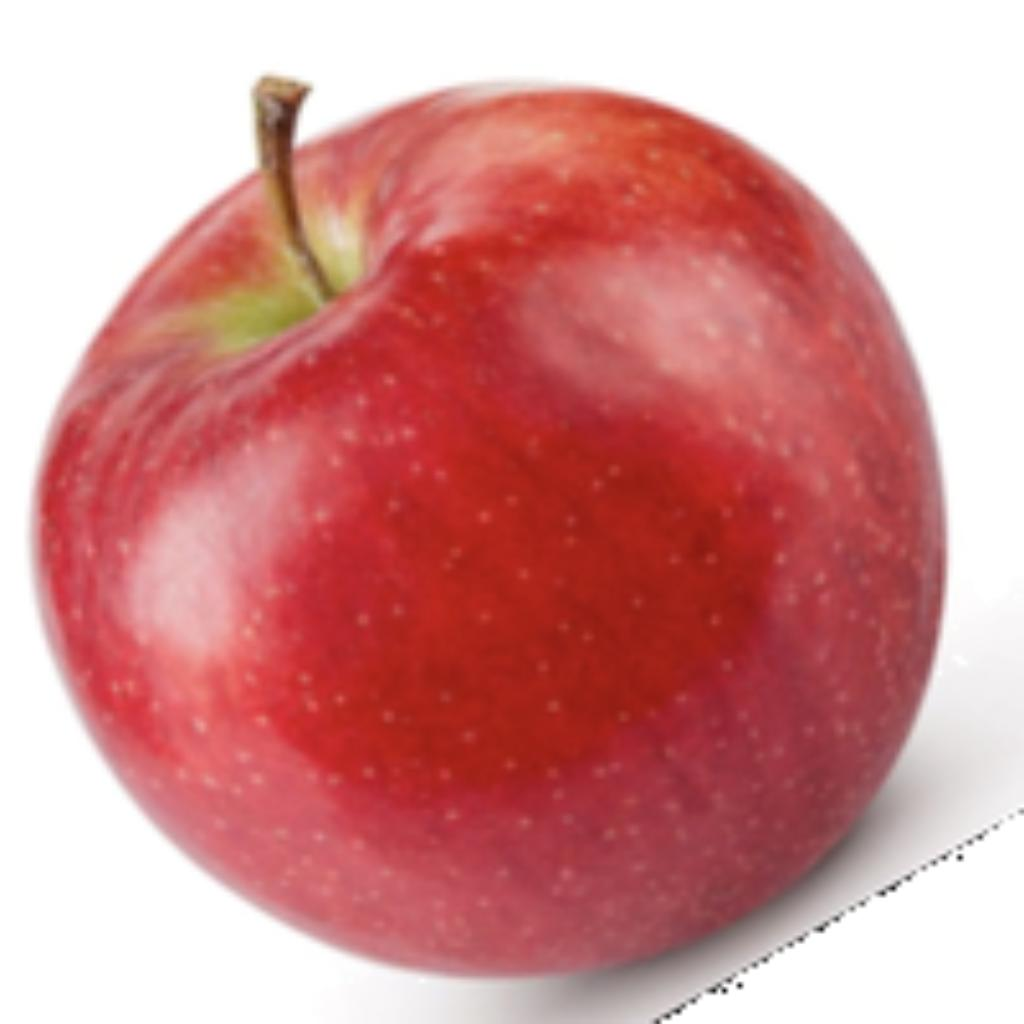apple: (20, 67, 1019, 1019)
